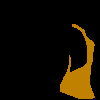maglia: (60, 24, 94, 99)
